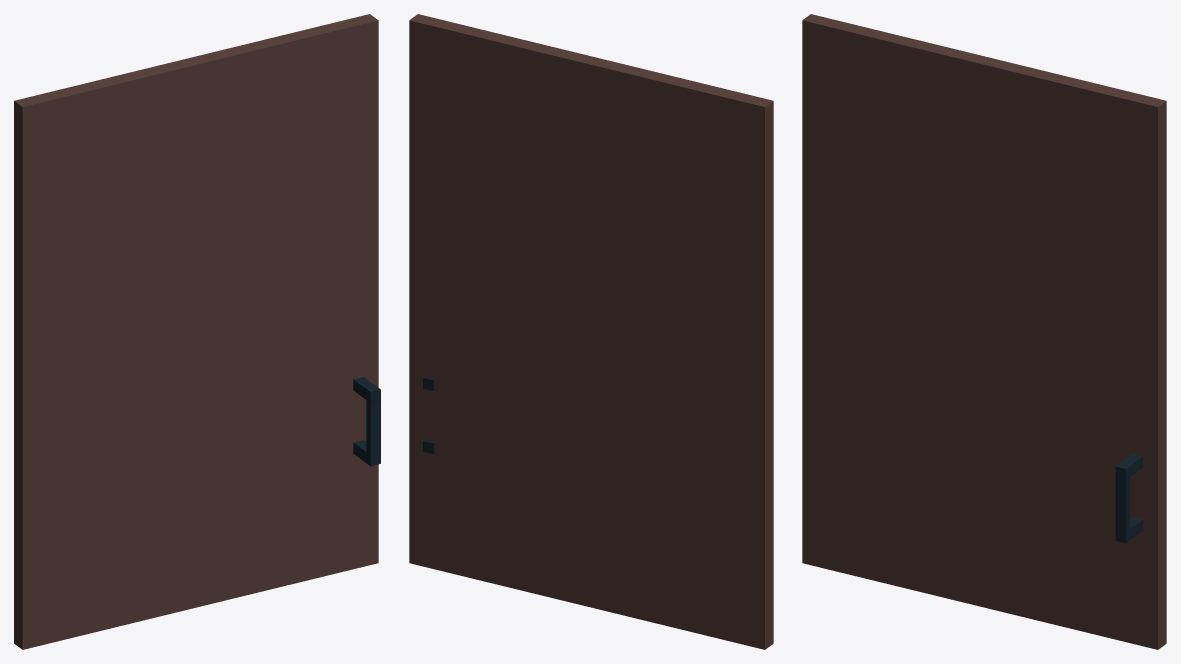
Rendered from Door2.fbx.
The picture shows the model from 3 angles, left to right: view 1: azimuth 30°, elevation 25°; view 2: azimuth 150°, elevation 25°; view 3: azimuth 330°, elevation 25°; orthographic projection.
Parts seen in each view (by area): view 1: Cube.005; view 2: Cube.005; view 3: Cube.005.
Part boxes in pixels (x1=…): Cube.005: x1=14, y1=14, x2=380, y2=649; Cube.005: x1=409, y1=14, x2=773, y2=649; Cube.005: x1=802, y1=14, x2=1166, y2=649.
Bounding box in the file's own units: 264 × 385 × 34.76.
